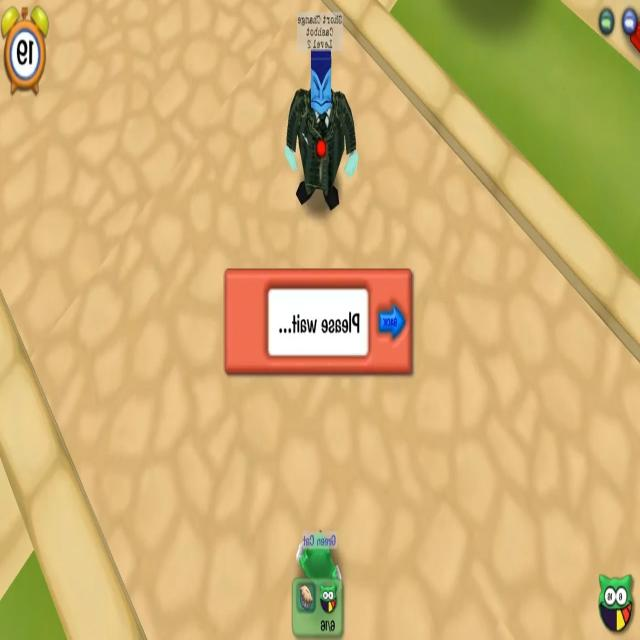shortchange: (283, 12, 359, 218)
